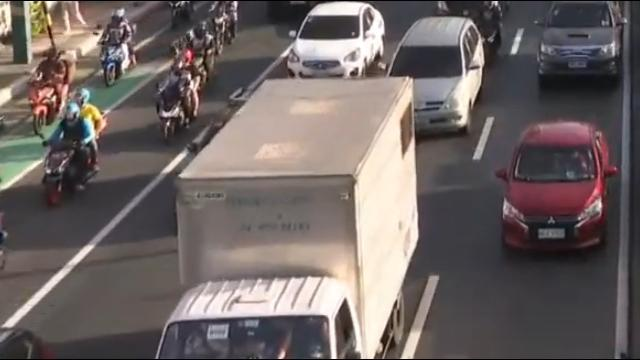car: (493, 119, 619, 254), (389, 15, 487, 133), (533, 0, 627, 89), (290, 1, 387, 79)
motorcycle: (35, 87, 110, 205), (26, 46, 81, 132), (150, 48, 199, 141), (96, 8, 139, 87), (172, 21, 218, 89), (478, 0, 509, 60), (210, 0, 242, 55), (165, 0, 195, 24)
truck: (139, 66, 433, 360)
